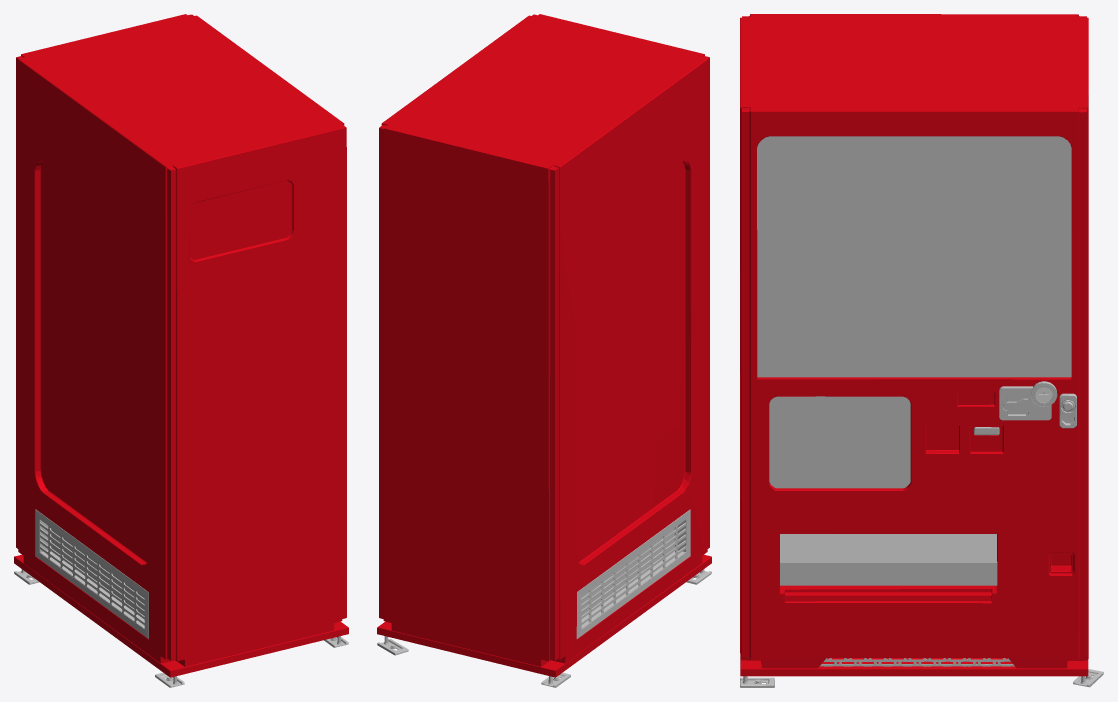
The model's file is 자판기.fbx.
The picture shows the model from 3 angles, left to right: view 1: azimuth 30°, elevation 25°; view 2: azimuth 150°, elevation 25°; view 3: azimuth 270°, elevation 25°; orthographic projection. The views are drawn at different scales.
Parts seen in each view (by area): view 1: Cube.066; view 2: Cube.066; view 3: Cube.066.
Boxes of the visible parts, x1,y1,x2,y2 form: Cube.066: [14, 14, 348, 687]; Cube.066: [377, 14, 711, 687]; Cube.066: [740, 14, 1103, 687].
Size of the model in its own units: 122 by 329 by 188.
